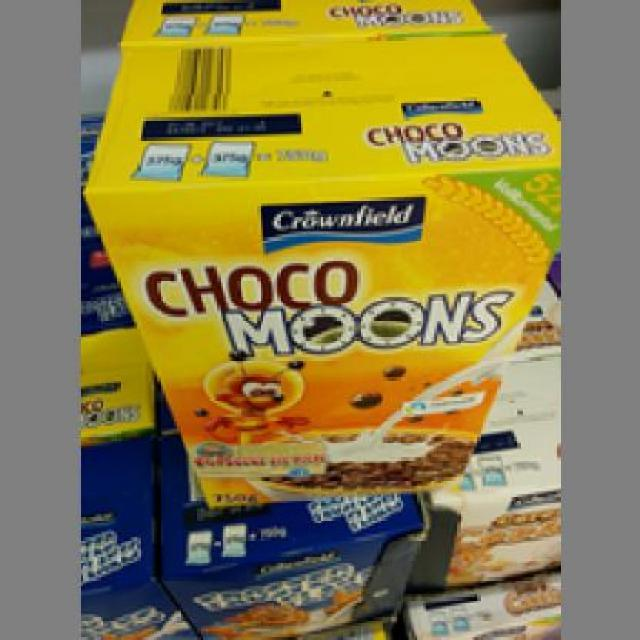Cereal: (80, 42, 557, 508)
